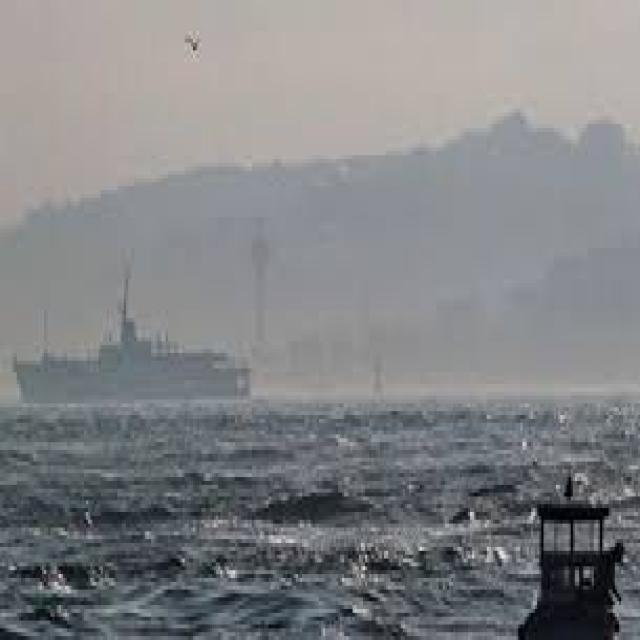navalvessels: (10, 262, 254, 396)
